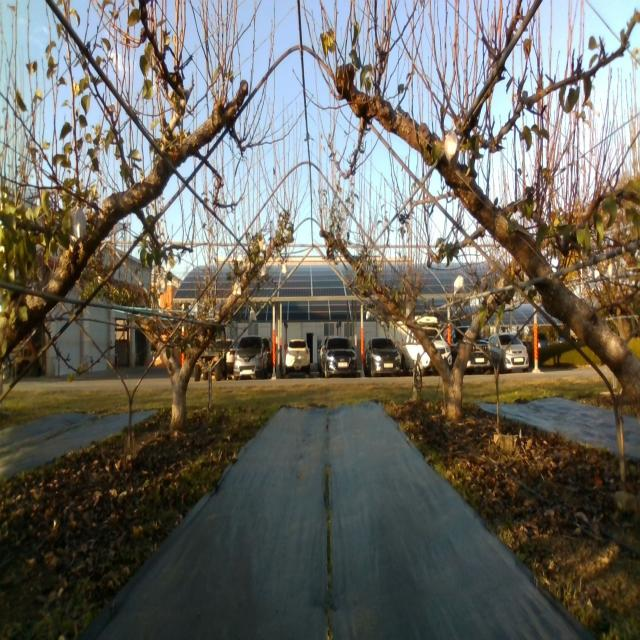pearbags: (444, 129, 460, 168), (70, 206, 87, 239), (452, 275, 466, 296), (156, 273, 167, 296)
